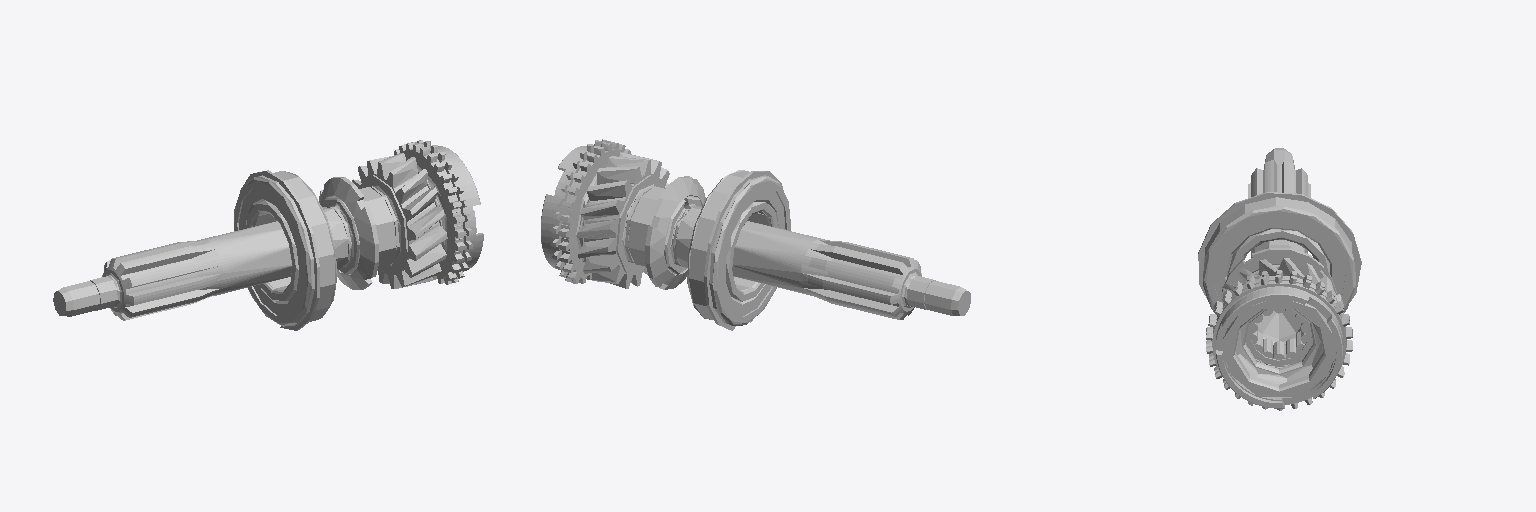
Rendered from 74. Вал первичный в сборе.obj.
3 views of the same model, side by side, from view 1: azimuth 30°, elevation 25°; view 2: azimuth 150°, elevation 25°; view 3: azimuth 270°, elevation 25° (orthographic).
Visible parts, largest first — view 1: Твердое тело1, Solid1:1, Solid1, Твердое тело1:1, Твердое тело2, Твердое тело1:2; view 2: Твердое тело1, Solid1:1, Solid1, Твердое тело1:1, Твердое тело2, Твердое тело1:2; view 3: Твердое тело1, Solid1:1, Твердое тело2, Твердое тело1:2, Твердое тело1:1, Solid1, Твердое тело1:3.
Boxes of the visible parts, x1,y1,x2,y2 form: Твердое тело1: [53, 142, 466, 320]; Solid1:1: [234, 171, 337, 326]; Solid1: [352, 153, 447, 288]; Твердое тело1:1: [319, 177, 378, 289]; Твердое тело2: [416, 140, 483, 284]; Твердое тело1:2: [240, 170, 319, 330]; Твердое тело1: [558, 141, 970, 319]; Solid1:1: [687, 170, 790, 325]; Solid1: [577, 152, 669, 288]; Твердое тело1:1: [645, 176, 705, 289]; Твердое тело2: [541, 139, 608, 283]; Твердое тело1:2: [704, 171, 783, 330]; Твердое тело1: [1206, 148, 1352, 396]; Solid1:1: [1203, 197, 1355, 312]; Твердое тело2: [1206, 275, 1352, 410]; Твердое тело1:2: [1198, 192, 1361, 301]; Твердое тело1:1: [1222, 248, 1336, 302]; Solid1: [1222, 258, 1343, 313]; Твердое тело1:3: [1246, 309, 1312, 364].
Size of the model in its own units: 250 by 90.18 by 90.07.